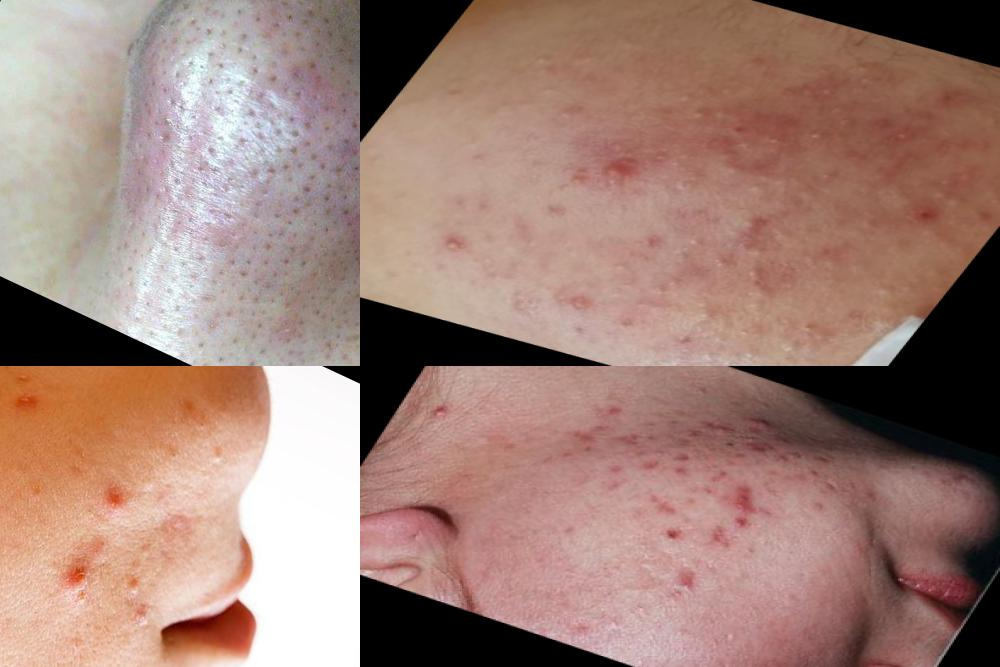acne_scars: (693, 516, 737, 553), (625, 451, 669, 482), (800, 447, 840, 475), (665, 440, 704, 468)
blackhead: (254, 54, 359, 151), (126, 159, 231, 256), (119, 246, 218, 346), (265, 233, 361, 327), (167, 96, 262, 187), (207, 187, 291, 283), (188, 28, 276, 117), (197, 278, 285, 366), (233, 1, 346, 69), (112, 59, 191, 149), (280, 160, 361, 245), (241, 124, 316, 202), (148, 1, 220, 76), (148, 426, 202, 487), (312, 312, 361, 367), (333, 104, 361, 178)
cystic: (736, 412, 782, 439), (424, 396, 459, 424)
milium: (270, 305, 319, 355)
papular: (574, 147, 666, 195), (646, 562, 721, 612), (709, 204, 785, 240)
purulent: (37, 529, 118, 606), (60, 467, 145, 533), (422, 220, 486, 259)
sebo-crystan-conglo: (716, 478, 773, 520)
whitehead: (730, 308, 847, 367), (110, 526, 168, 596), (822, 45, 896, 91), (190, 435, 244, 490), (668, 292, 738, 334), (512, 46, 576, 81), (929, 174, 983, 214), (731, 259, 786, 292), (549, 291, 605, 322), (666, 230, 714, 264), (497, 291, 546, 322), (792, 124, 844, 152), (744, 169, 802, 193), (848, 205, 895, 233), (811, 97, 859, 124), (825, 111, 868, 141), (870, 276, 913, 303), (721, 343, 769, 367), (552, 102, 594, 128), (651, 275, 692, 301), (708, 158, 754, 181), (705, 250, 744, 274), (887, 125, 926, 147), (707, 84, 747, 105), (808, 166, 846, 188), (604, 258, 636, 279), (672, 88, 702, 109), (728, 139, 760, 158), (845, 254, 872, 275), (684, 107, 711, 124)
